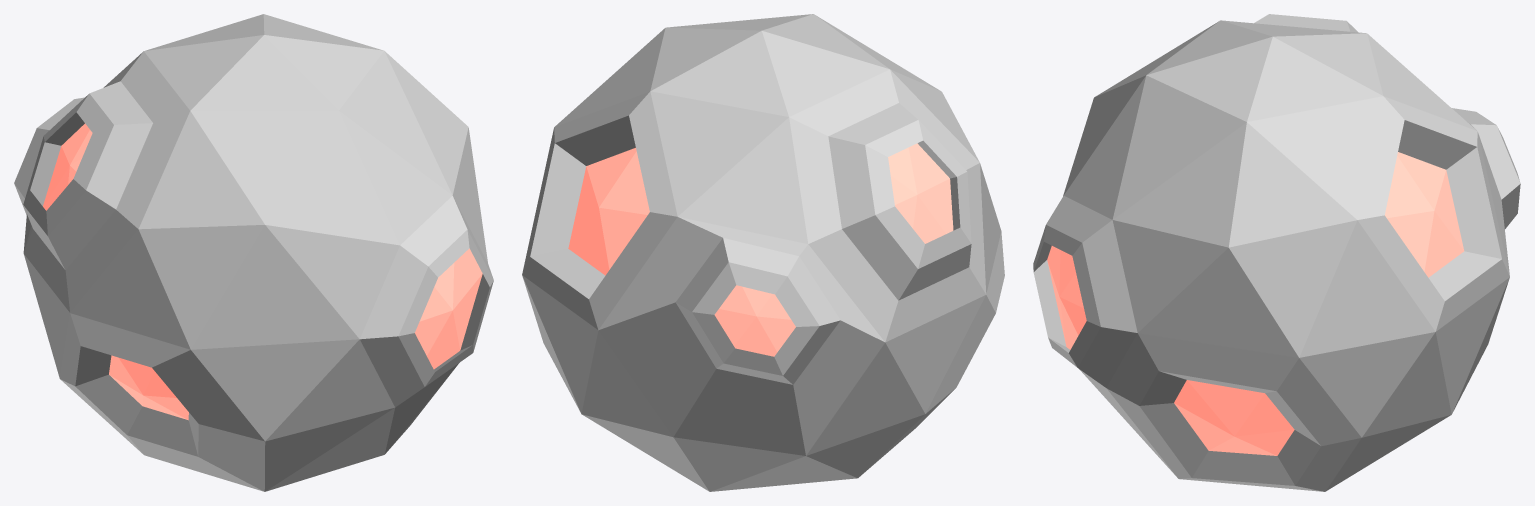
The model's file is SM_asteroida_mala_mocna.fbx.
The picture shows the model from 3 angles, left to right: view 1: azimuth 30°, elevation 25°; view 2: azimuth 150°, elevation 25°; view 3: azimuth 270°, elevation 25°; orthographic projection.
Visible parts, largest first — view 1: SM_asteroida_mala_mocna; view 2: SM_asteroida_mala_mocna; view 3: SM_asteroida_mala_mocna.
Part boxes in pixels (left/top/right/bottom): SM_asteroida_mala_mocna: left=14, top=14, right=493, bottom=491; SM_asteroida_mala_mocna: left=522, top=14, right=1004, bottom=491; SM_asteroida_mala_mocna: left=1033, top=14, right=1520, bottom=491.
Size of the model in its own units: 0.8559 by 0.853 by 0.858.
